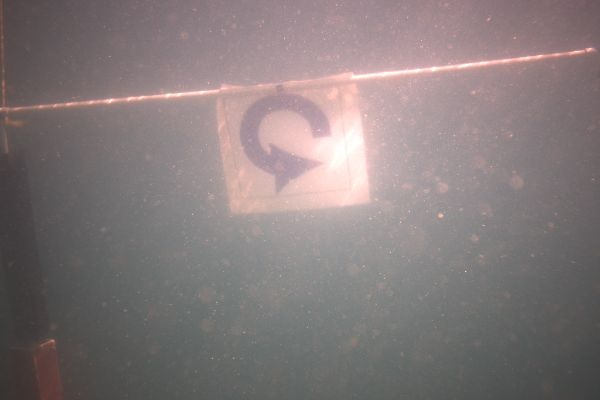gate: (0, 47, 600, 400)
gate_bleue: (218, 73, 372, 213)
